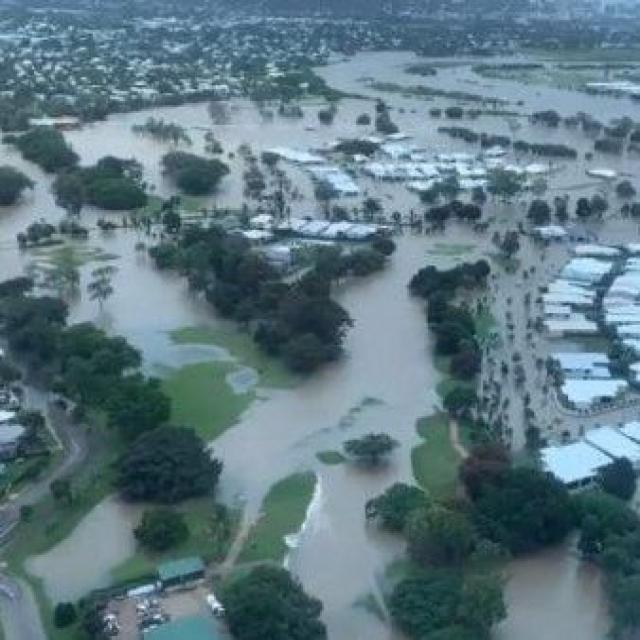flooded_areas: (0, 49, 627, 608)
